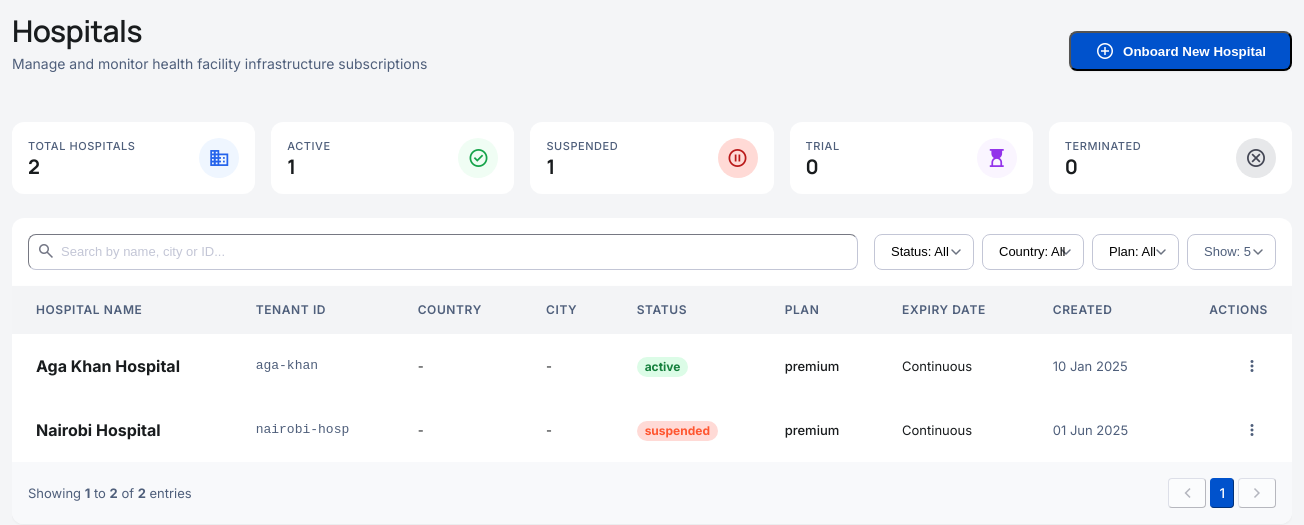
Test: TenantManagementPage › applies status dropdown filters correctly
Check: the text "Aga Khan Hospital" is shown, box 12,334 -> 232,398
Select "Suspended" in the 1st dropdown: (924, 252) 874,234 -> 974,270
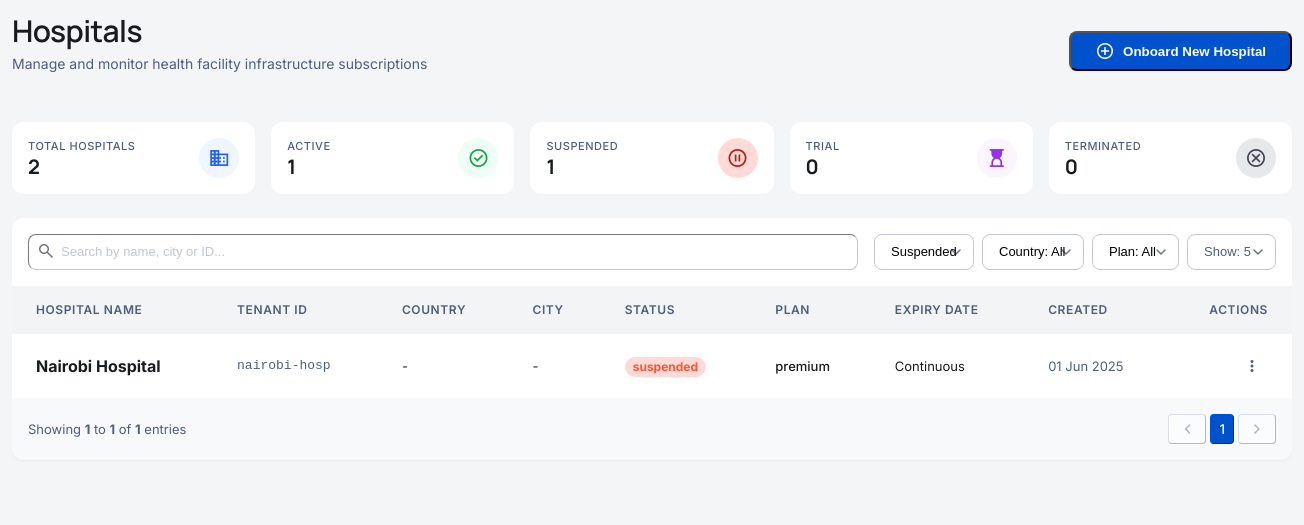
Check: the text "Nairobi Hospital" is shown, box 12,334 -> 213,398
Check: the text "Aga Khan Hospital" is gone
